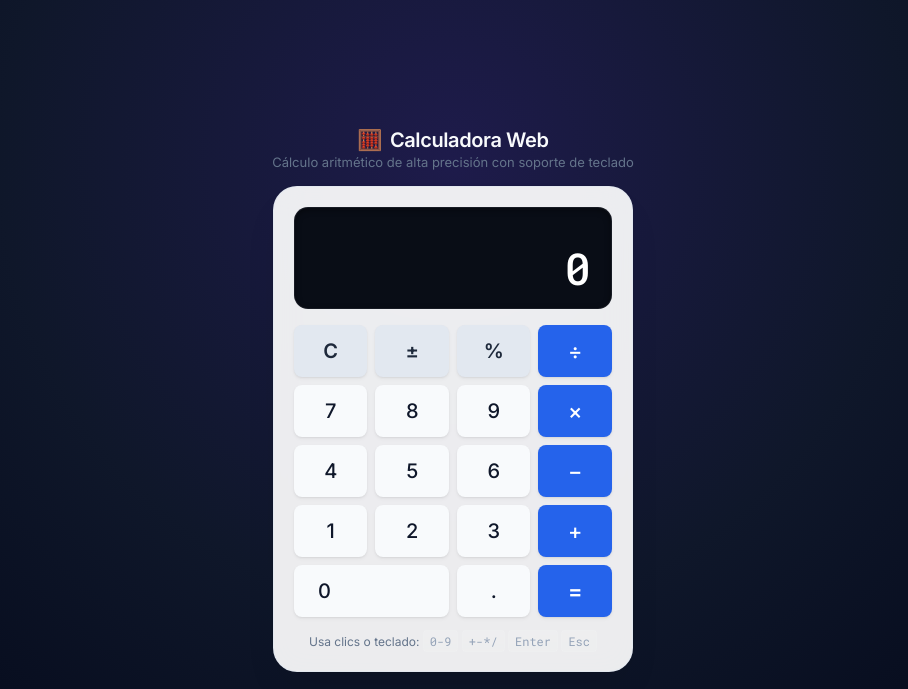
Calculadora UI & Accessibility (FR2, NFR3, WCAG 2.1 AA) › marks display with role="alert" when error occurs (5 / 0 = Error)
What coordinates should you click on to do the following:
click the button "5"
I would click on:
 (412, 471)
Its box is [376,445,449,497].
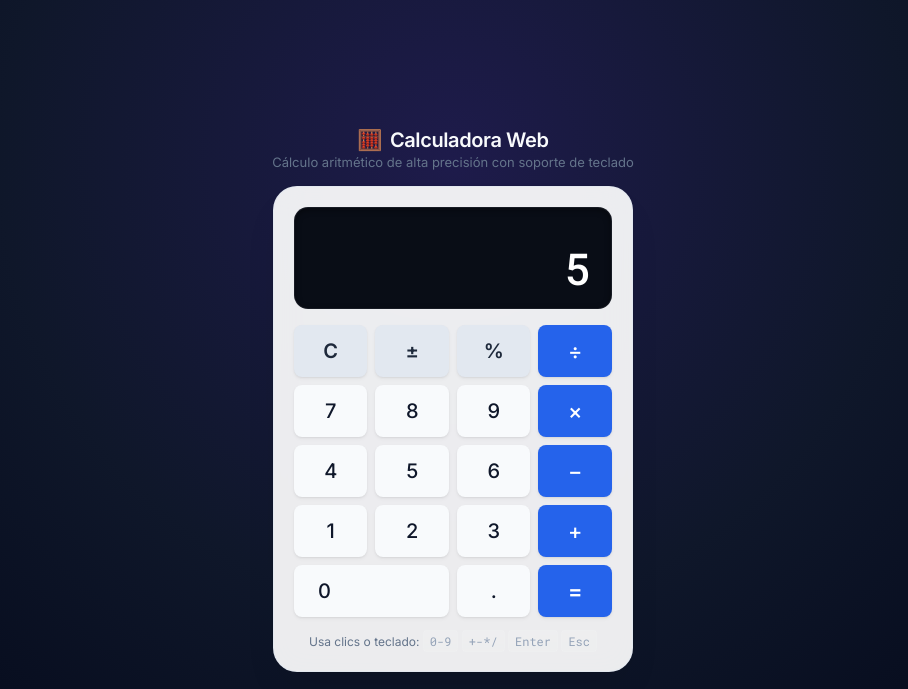
What coordinates should you click on to do the following:
click the button named "dividir"
I would click on:
 (575, 351)
Its box is [538,325,612,377].
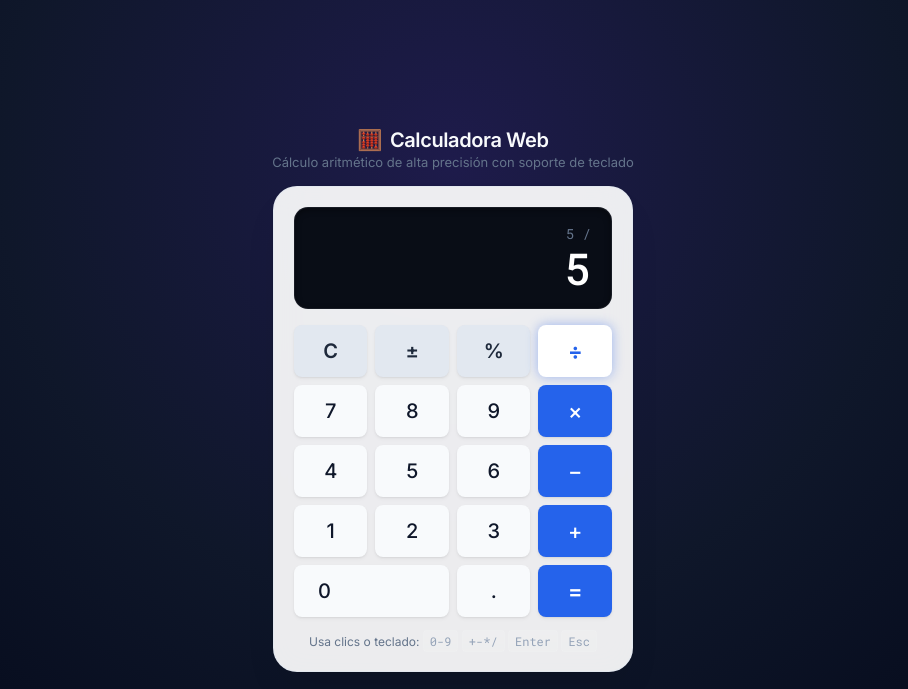
What coordinates should you click on to do the following:
click the button "0"
I would click on:
 (372, 591)
Its box is [294,565,449,617].
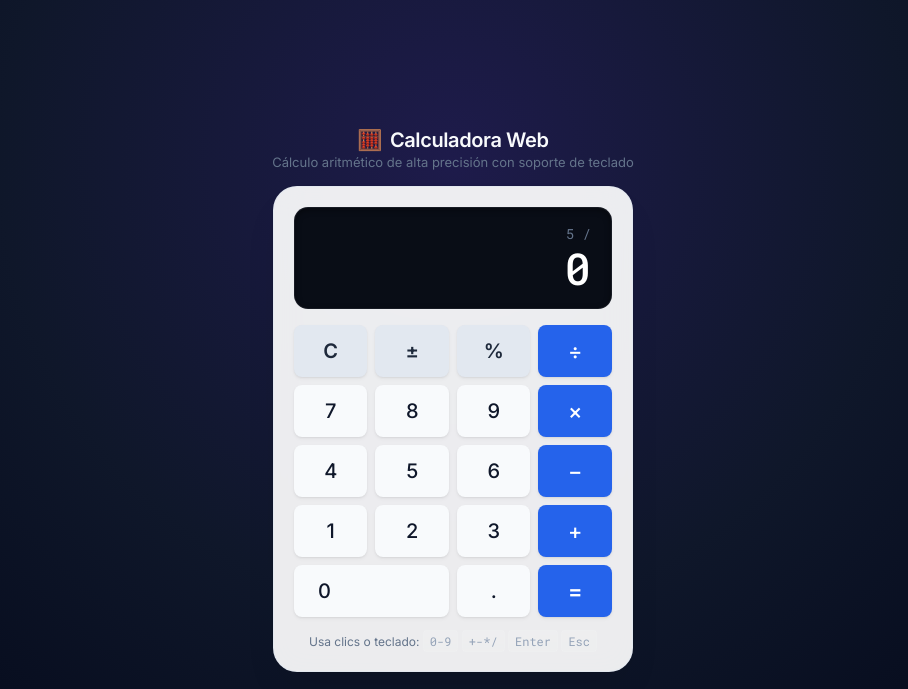
What coordinates should you click on to do the following:
click the button named "igual"
I would click on:
 (575, 591)
Its box is [538,565,612,617].
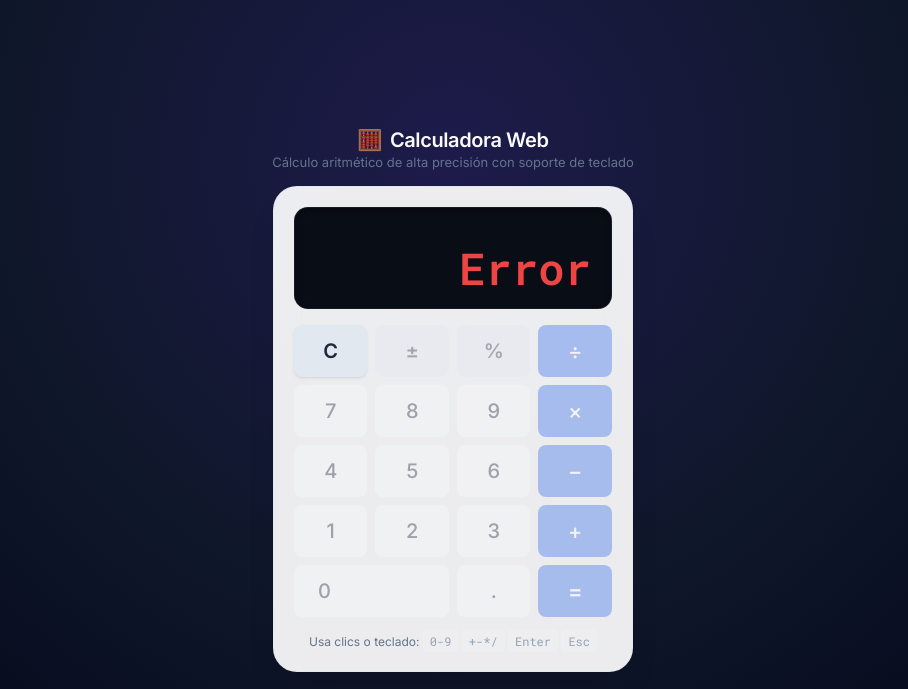
Now the message with test id "calculator-display" reads "Error", box [459,239,591,297]
